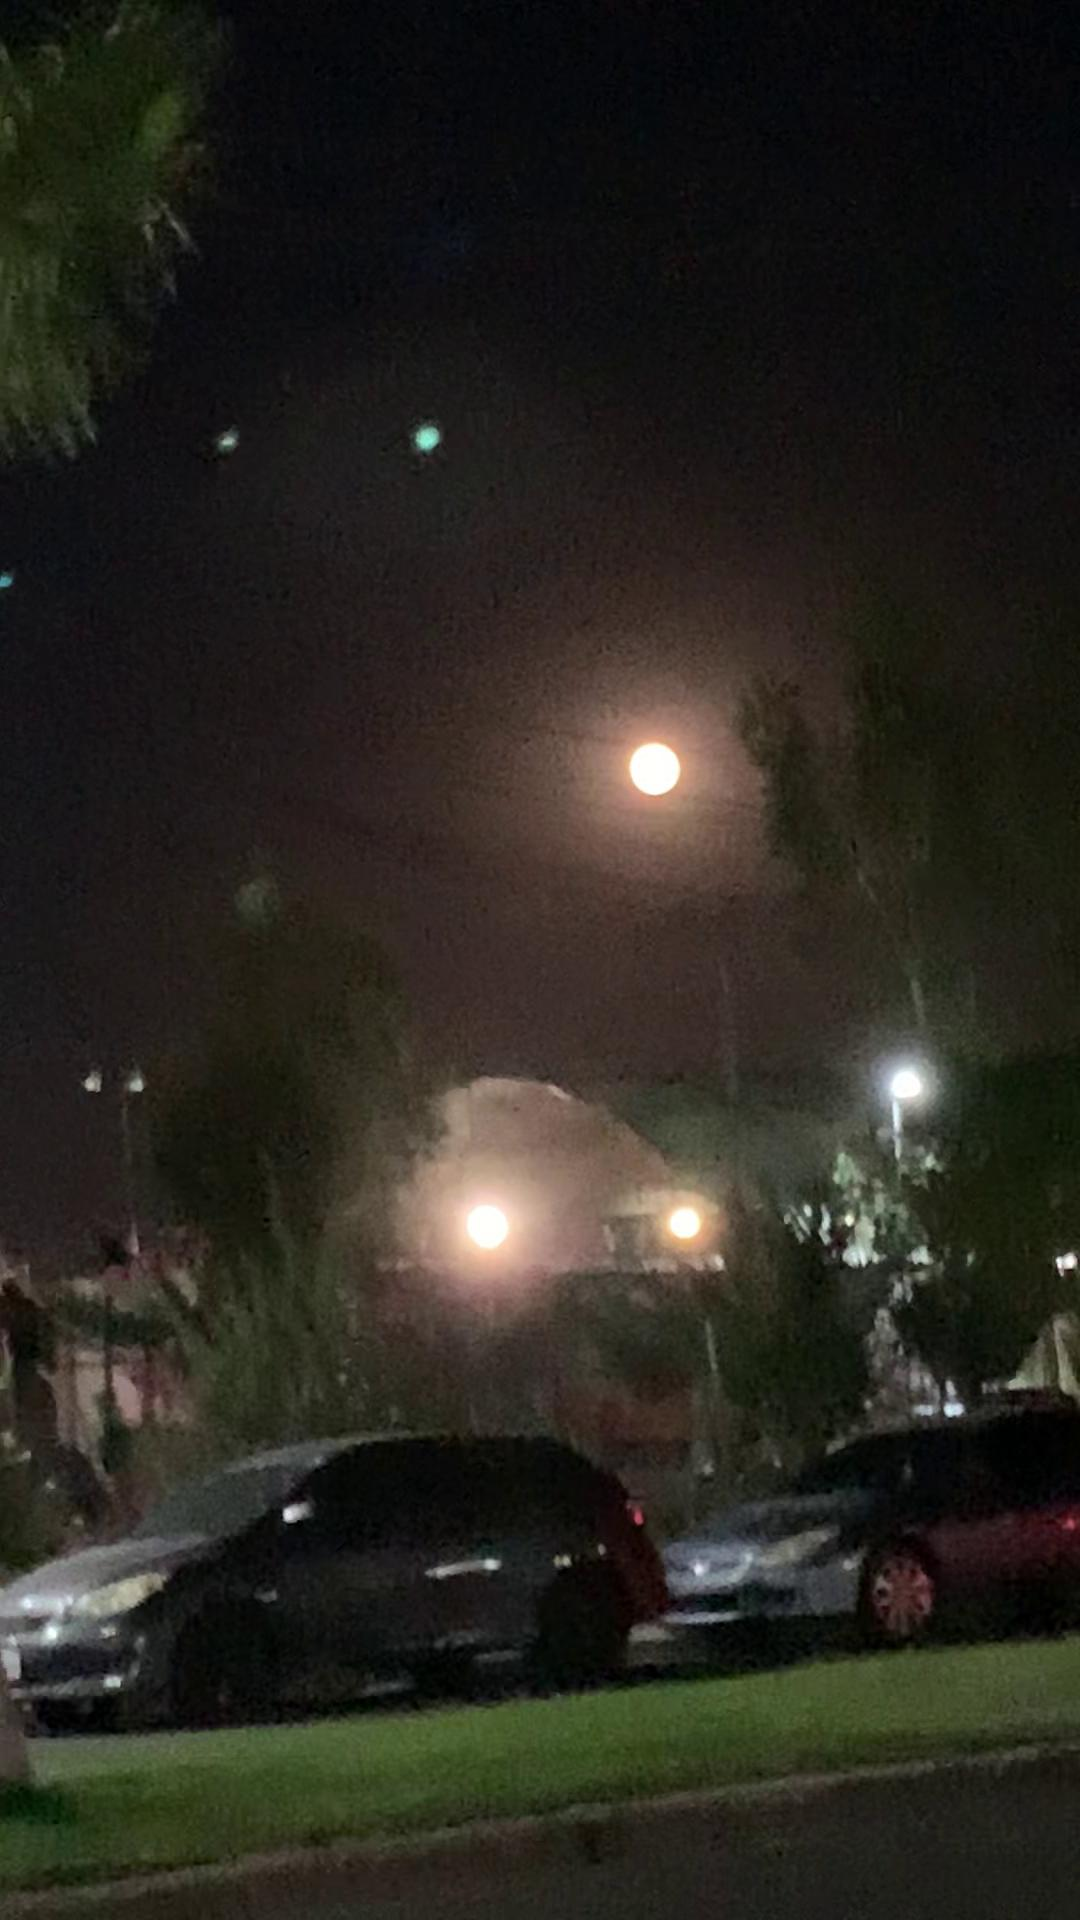moon: (615, 746, 703, 822)
